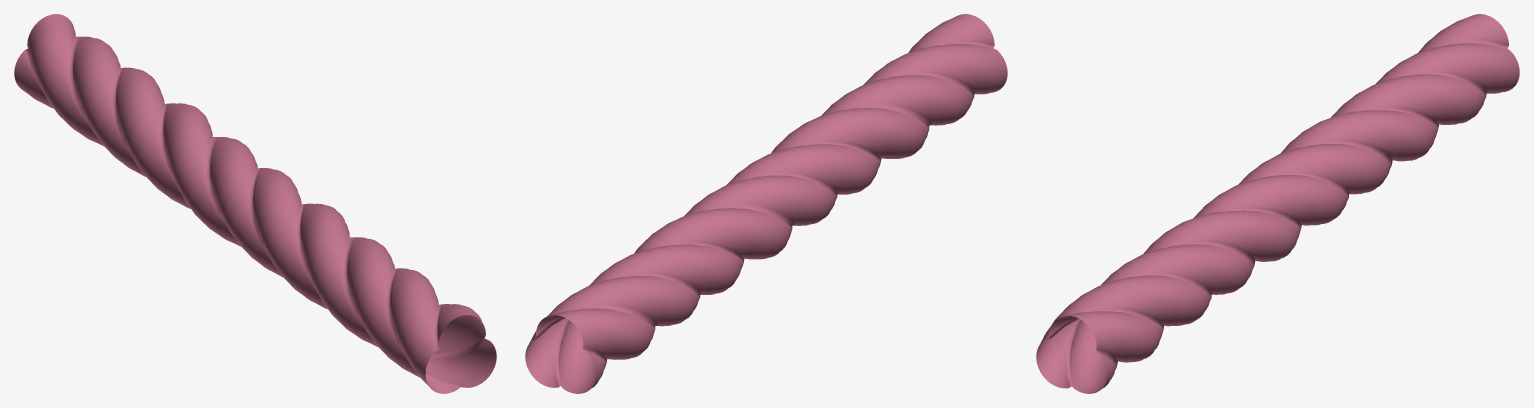
File: leftString.obj
3 renders of one model, left to right at view 1: azimuth 30°, elevation 25°; view 2: azimuth 150°, elevation 25°; view 3: azimuth 330°, elevation 25°, orthographic.
Parts seen in each view (by area): view 1: 円; view 2: 円; view 3: 円.
Boxes of the visible parts, x1,y1,x2,y2 form: 円: (14,14,496,393); 円: (525,14,1007,393); 円: (1036,14,1519,393).
Size of the model in its own units: 0.5027 by 0.5027 by 4.57.
1 material, 1 textured.
